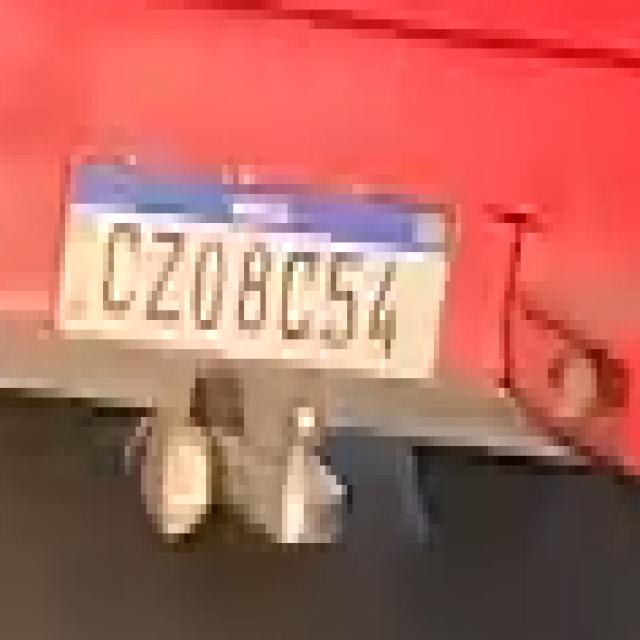Placa_mercosul_carro: (56, 154, 449, 380)
